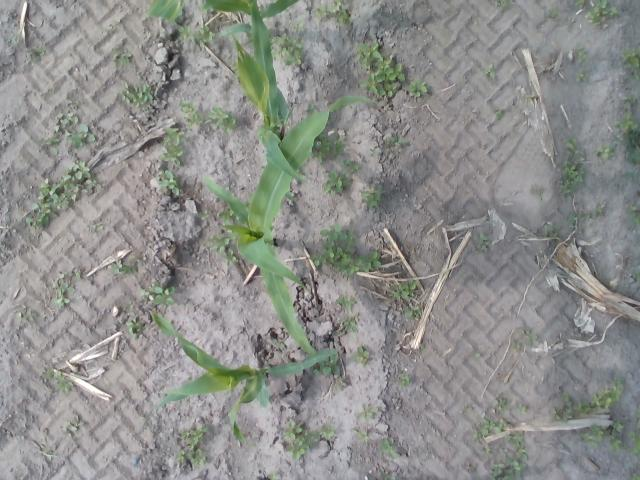Maize: (201, 96, 376, 355), (148, 310, 336, 443), (233, 0, 306, 206), (200, 1, 300, 36), (146, 0, 186, 22)
Weeds: (26, 158, 102, 234), (309, 223, 383, 276), (550, 374, 625, 421), (38, 97, 96, 152), (357, 40, 407, 98), (282, 417, 336, 461), (486, 431, 530, 478), (557, 133, 586, 202), (173, 422, 211, 468), (48, 266, 86, 310), (324, 158, 363, 198), (612, 114, 640, 164), (271, 34, 307, 70), (205, 231, 238, 266), (118, 80, 155, 110), (564, 204, 608, 228), (583, 0, 618, 30), (173, 23, 216, 47), (370, 132, 412, 156), (30, 429, 60, 462), (471, 417, 514, 440), (314, 134, 347, 162), (140, 282, 175, 308), (160, 126, 183, 165), (44, 362, 72, 394), (574, 422, 609, 447), (205, 104, 236, 130), (107, 255, 143, 276), (154, 169, 182, 196), (620, 46, 640, 81), (314, 354, 341, 376), (331, 0, 352, 28), (60, 412, 86, 434), (390, 280, 418, 300), (360, 184, 380, 211), (181, 100, 201, 126), (408, 76, 428, 100), (380, 436, 400, 460), (337, 313, 358, 335), (334, 294, 358, 313), (122, 316, 144, 336), (113, 49, 135, 69), (626, 429, 640, 458), (350, 346, 368, 367), (29, 44, 46, 66), (610, 420, 622, 451), (351, 426, 370, 445), (520, 325, 538, 345), (593, 142, 613, 160), (492, 396, 510, 416), (20, 303, 40, 321), (356, 403, 378, 419), (402, 303, 421, 320), (106, 17, 125, 34), (474, 233, 490, 253), (623, 90, 639, 110), (542, 221, 560, 238), (530, 183, 546, 202), (626, 204, 640, 225), (575, 44, 587, 68), (217, 207, 233, 223), (334, 374, 349, 391), (90, 220, 108, 234), (483, 64, 498, 80), (314, 6, 329, 22), (496, 0, 516, 11), (292, 22, 308, 34), (620, 171, 640, 180), (634, 401, 640, 430), (396, 373, 409, 386), (274, 340, 288, 352), (46, 84, 60, 96), (546, 4, 558, 17), (512, 340, 524, 352), (516, 404, 528, 416), (574, 71, 586, 82), (576, 0, 588, 11), (128, 299, 139, 311), (11, 36, 24, 46), (200, 210, 210, 223), (381, 472, 397, 480), (494, 108, 505, 118), (462, 404, 474, 412), (635, 269, 640, 284), (472, 352, 482, 359), (632, 472, 640, 480), (268, 472, 276, 480), (524, 94, 534, 99)
